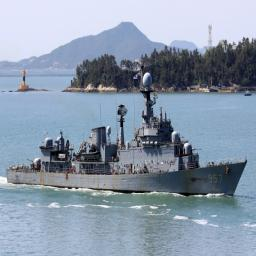Fragata: (6, 73, 251, 200)
